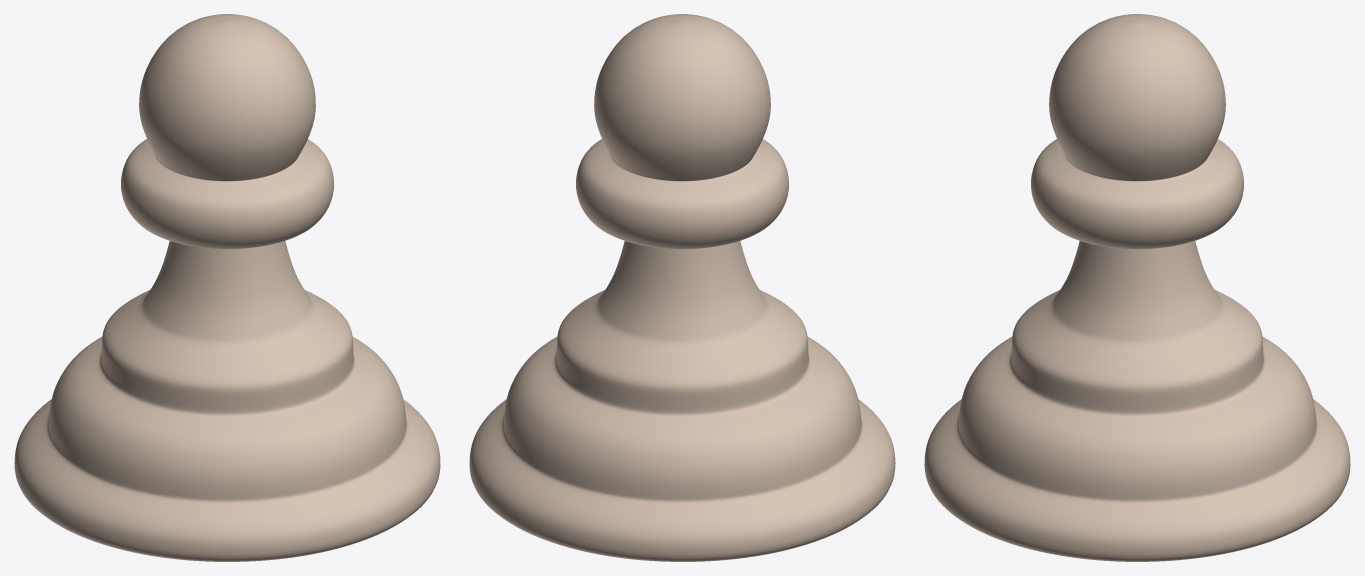
Rendered from white_pawn.glb.
3 views of the same model, side by side, from view 1: azimuth 30°, elevation 25°; view 2: azimuth 150°, elevation 25°; view 3: azimuth 270°, elevation 25° (orthographic).
Visible parts, largest first — view 1: στρατιώτης.011; view 2: στρατιώτης.011; view 3: στρατιώτης.011.
Part boxes in pixels (bbox=[...]): στρατιώτης.011: bbox=[14, 14, 440, 561]; στρατιώτης.011: bbox=[469, 14, 895, 561]; στρατιώτης.011: bbox=[924, 14, 1350, 561].
Size of the model in its own units: 3.39 by 3.99 by 3.39.
